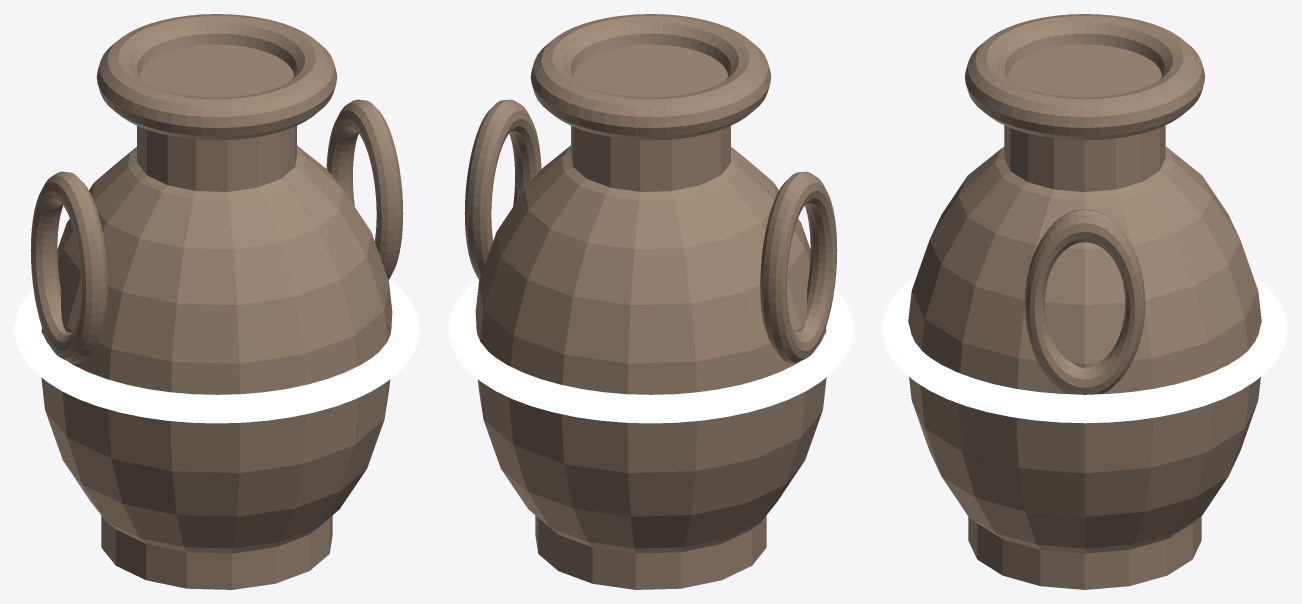
The model's file is GlacialUrn.glb.
3 renders of one model, left to right at view 1: azimuth 30°, elevation 25°; view 2: azimuth 150°, elevation 25°; view 3: azimuth 270°, elevation 25°, orthographic.
Visible parts, largest first — view 1: GlacialUrn; view 2: GlacialUrn; view 3: GlacialUrn.
Boxes of the visible parts, x1=… form: GlacialUrn: x1=14, y1=14, x2=419, y2=589; GlacialUrn: x1=448, y1=14, x2=853, y2=589; GlacialUrn: x1=882, y1=14, x2=1287, y2=589.
Bounding box in the file's own units: 2.26 × 3.07 × 2.26.
